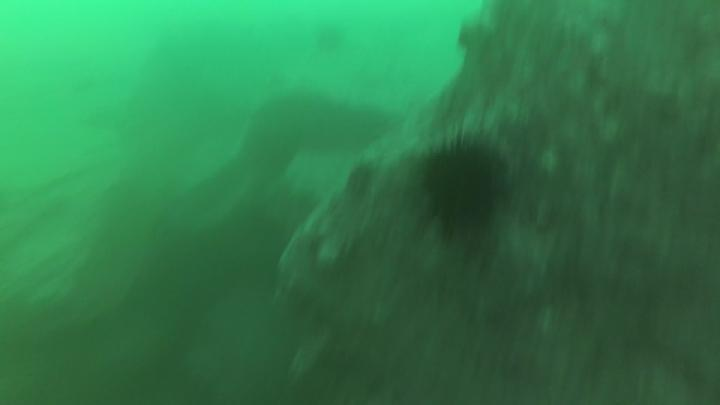echinus: (426, 147, 502, 235), (346, 166, 371, 194)
